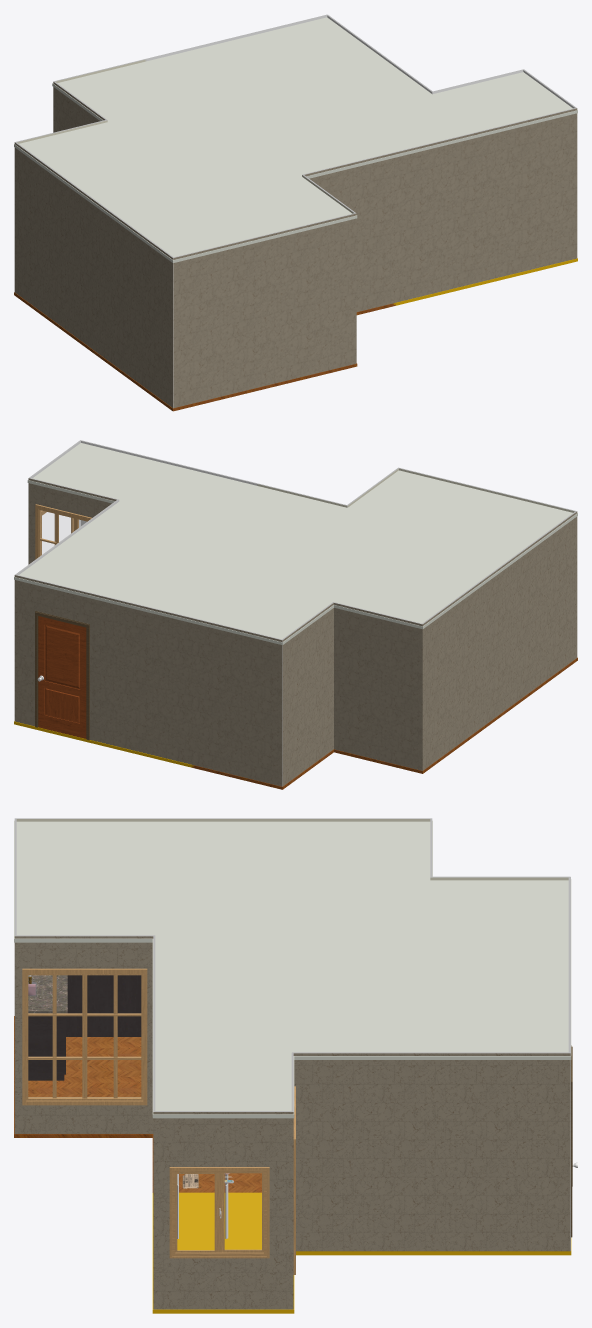
Rendered from ProcTHOR-Train-103.glb.
The picture shows the model from 3 angles, top to bottom: view 1: azimuth 30°, elevation 25°; view 2: azimuth 150°, elevation 25°; view 3: azimuth 270°, elevation 25°; orthographic projection. The views are drawn at different scales.
Parts seen in each view (by area): view 1: Ceiling#room|2|c, Ceiling#room|3|c, WallInside#wall|exterior|5.08|6.77|8.46|6.77, WallInside#wall|exterior|0.00|5.08|3.38|5.08, WallInside#wall|exterior|8.46|1.69|8.46|6.77, WallInside#wall|exterior|3.38|5.08|5.08|5.08, Floor#room|2|f, WallInside#wall|exterior|6.77|0.00|6.77|1.69, Floor#room|3|f, WallInside#wall|3|1.69|0.00|5.08|0.00; view 2: Ceiling#room|2|c, Ceiling#room|3|c, WallInside#wall|exterior|8.46|1.69|8.46|6.77, WallInside#wall|exterior|1.69|0.00|5.08|0.00, WallInside#wall|exterior|5.08|0.00|6.77|0.00, WallInside#wall|exterior|6.77|1.69|8.46|1.69, WallInside#wall|exterior|6.77|0.00|6.77|1.69, Doorway_4, WallInside#wall|exterior|0.00|3.38|1.69|3.38, Floor#room|2|f, Window_Fixed_60x72, Floor#room|3|f (+2 smaller); view 3: Ceiling#room|2|c, WallInside#wall|exterior|1.69|0.00|1.69|3.38, Ceiling#room|3|c, WallInside#wall|exterior|0.00|3.38|0.00|5.08, WallInside#wall|exterior|5.08|5.08|5.08|6.77, Countertop_L_10x6, Floor#room|3|f, Window_Fixed_60x72, Floor#room|2|f, Window_Slider_48x48, WallInside#wall|2|8.46|1.69|8.46|6.77.
Boxes of the visible parts, box(x1,y1,x2,y2) form: Ceiling#room|2|c: box(14, 61, 395, 262); Ceiling#room|3|c: box(147, 17, 577, 157); WallInside#wall|exterior|5.08|6.77|8.46|6.77: box(173, 213, 356, 408); WallInside#wall|exterior|0.00|5.08|3.38|5.08: box(394, 108, 577, 302); WallInside#wall|exterior|8.46|1.69|8.46|6.77: box(14, 142, 173, 407); WallInside#wall|exterior|3.38|5.08|5.08|5.08: box(303, 153, 394, 311); Floor#room|2|f: box(14, 292, 395, 411); WallInside#wall|exterior|6.77|0.00|6.77|1.69: box(53, 81, 105, 132); Floor#room|3|f: box(393, 258, 577, 305); WallInside#wall|3|1.69|0.00|5.08|0.00: box(145, 15, 327, 61); Ceiling#room|2|c: box(191, 470, 577, 645); Ceiling#room|3|c: box(14, 443, 296, 623); WallInside#wall|exterior|8.46|1.69|8.46|6.77: box(422, 511, 577, 770); WallInside#wall|exterior|1.69|0.00|5.08|0.00: box(14, 574, 193, 764); WallInside#wall|exterior|5.08|0.00|6.77|0.00: box(192, 618, 282, 786); WallInside#wall|exterior|6.77|1.69|8.46|1.69: box(333, 602, 422, 770); WallInside#wall|exterior|6.77|0.00|6.77|1.69: box(282, 602, 333, 786); Doorway_4: box(35, 611, 89, 739); WallInside#wall|exterior|0.00|3.38|1.69|3.38: box(28, 478, 117, 564); Floor#room|2|f: box(191, 657, 577, 789); Window_Fixed_60x72: box(35, 504, 91, 559); Floor#room|3|f: box(14, 721, 193, 767); Ceiling#room|2|c: box(14, 820, 571, 997); WallInside#wall|exterior|1.69|0.00|1.69|3.38: box(293, 1053, 570, 1251); Ceiling#room|3|c: box(152, 937, 571, 1118); WallInside#wall|exterior|0.00|3.38|0.00|5.08: box(153, 1111, 293, 1309); WallInside#wall|exterior|5.08|5.08|5.08|6.77: box(14, 935, 154, 1133); Countertop_L_10x6: box(28, 975, 141, 1080); Floor#room|3|f: box(152, 1192, 571, 1313); Window_Fixed_60x72: box(22, 968, 147, 1105); Floor#room|2|f: box(14, 1016, 261, 1192); Window_Slider_48x48: box(169, 1167, 269, 1258); WallInside#wall|2|8.46|1.69|8.46|6.77: box(15, 818, 431, 821).
Size of what is drawn, in the model's own units: 8.52 by 2.72 by 6.89.
166 materials, 64 textured.
